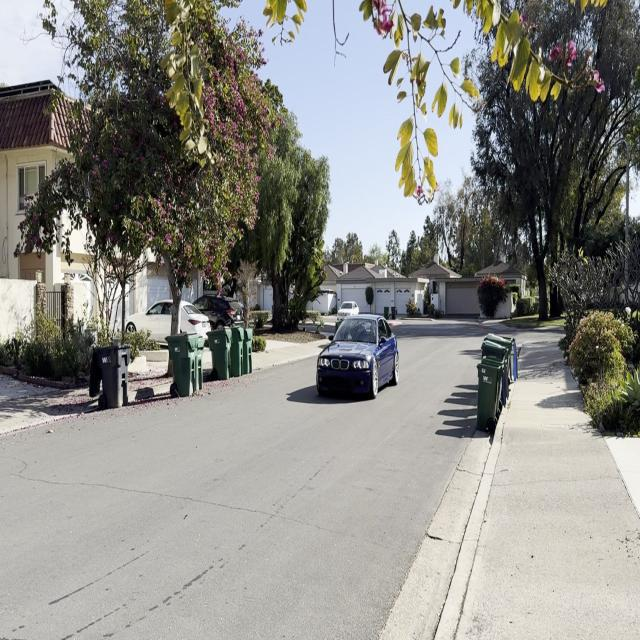Carbeetle: (310, 300, 402, 409)
